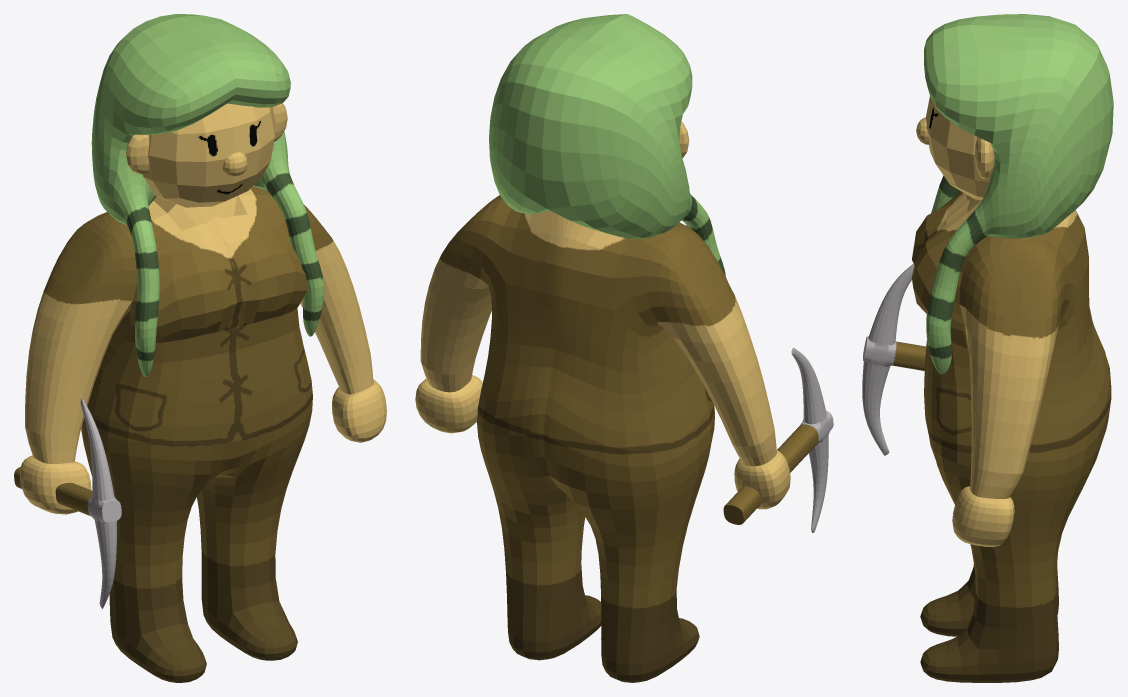
Rendered from svelta-luktegress.fbx.
3 renders of one model, left to right at view 1: azimuth 30°, elevation 25°; view 2: azimuth 150°, elevation 25°; view 3: azimuth 270°, elevation 25°, orthographic. The views are drawn at different scales.
Parts seen in each view (by area): view 1: Body, Hair, Head, Pickaxe, Right Ear; view 2: Body, Hair, Pickaxe; view 3: Body, Hair, Pickaxe, Head, Left Ear.
Part boxes in pixels (x1,y1,x2,y2): Body: [19, 186, 386, 682]; Hair: [91, 14, 324, 376]; Head: [143, 103, 275, 207]; Pickaxe: [14, 398, 121, 608]; Right Ear: [126, 134, 149, 174]; Body: [415, 195, 790, 682]; Hair: [489, 14, 725, 276]; Pickaxe: [723, 347, 833, 532]; Body: [912, 191, 1111, 682]; Hair: [924, 14, 1113, 374]; Pickaxe: [862, 264, 926, 455]; Head: [925, 97, 990, 200]; Left Ear: [975, 137, 994, 179].
Size of the model in its own units: 0.5797 by 0.9594 by 0.3475.
Materials: 1 (1 with a texture image).
